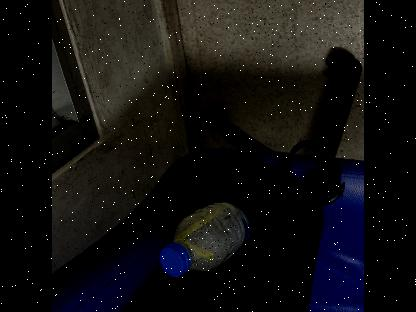Plastic Bottle: (156, 196, 254, 278)
